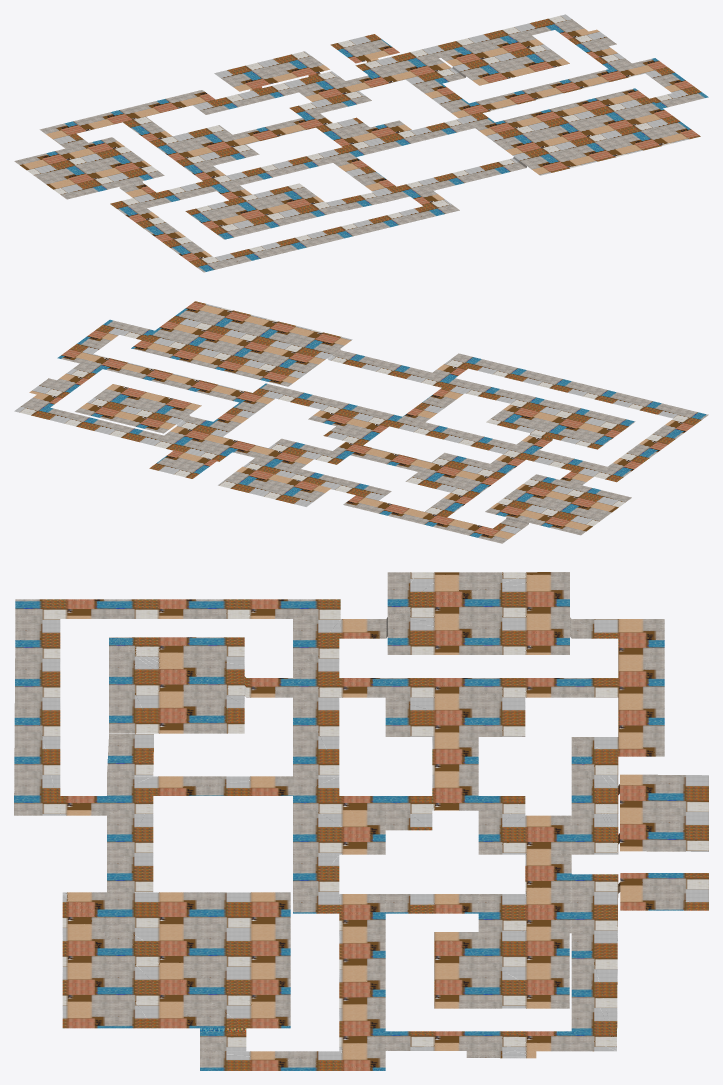
File: floor2UP.fbx
3 renders of one model, top to bottom at view 1: azimuth 30°, elevation 25°; view 2: azimuth 150°, elevation 25°; view 3: azimuth 270°, elevation 25°, orthographic. The views are drawn at different scales.
Visible parts, largest first — view 1: floor2; view 2: floor2; view 3: floor2.
Part boxes in pixels (box(x1,y1,x2,y2)): floor2: box(14, 14, 708, 272); floor2: box(14, 301, 708, 543); floor2: box(14, 572, 708, 1070).
Bounding box in the file's own units: 5054 × 12.43 × 2991.
